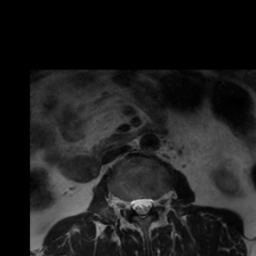CCS_normal: (138, 191, 146, 223)
LFS_normal: (154, 189, 162, 214)
LLS_normal: (146, 190, 154, 217)
RFS_normal: (122, 191, 130, 218)
RLS_normal: (130, 191, 138, 218)
